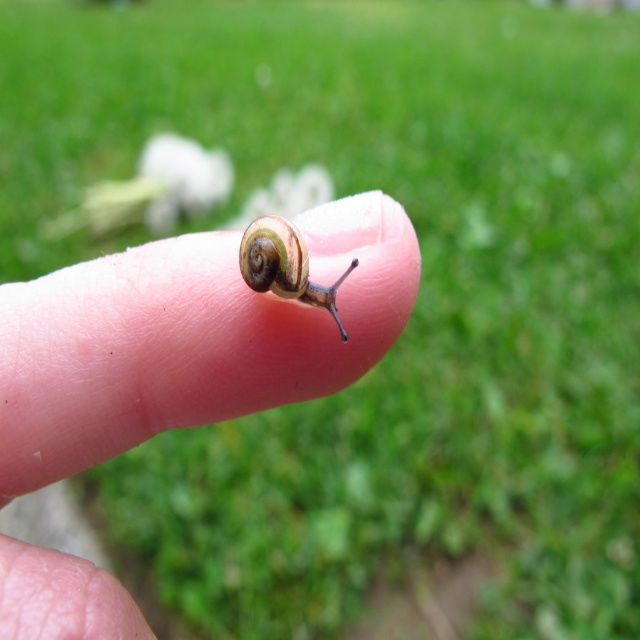Snail: (236, 211, 362, 345)
